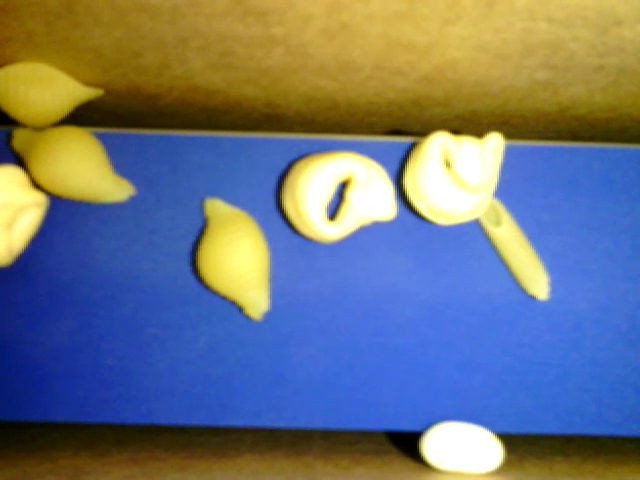penne: (479, 197, 552, 302)
shell: (195, 196, 272, 321), (12, 125, 137, 202), (1, 60, 105, 127)
tortellini: (281, 148, 399, 244), (402, 128, 505, 227)
